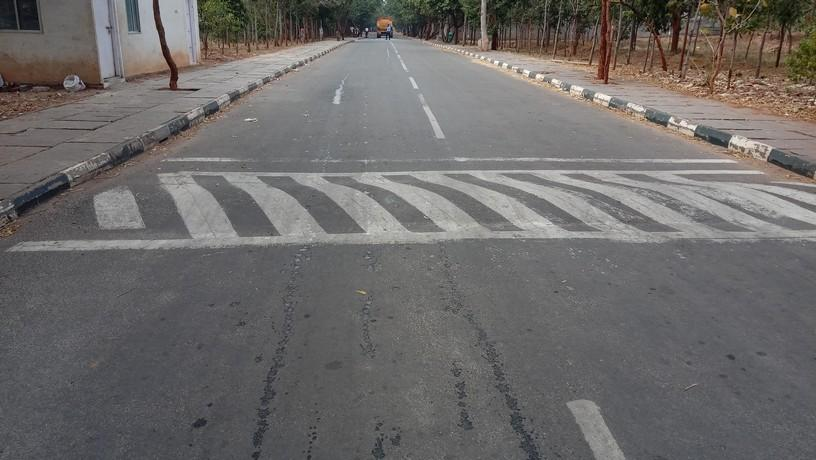speed-bump: (30, 160, 815, 249)
